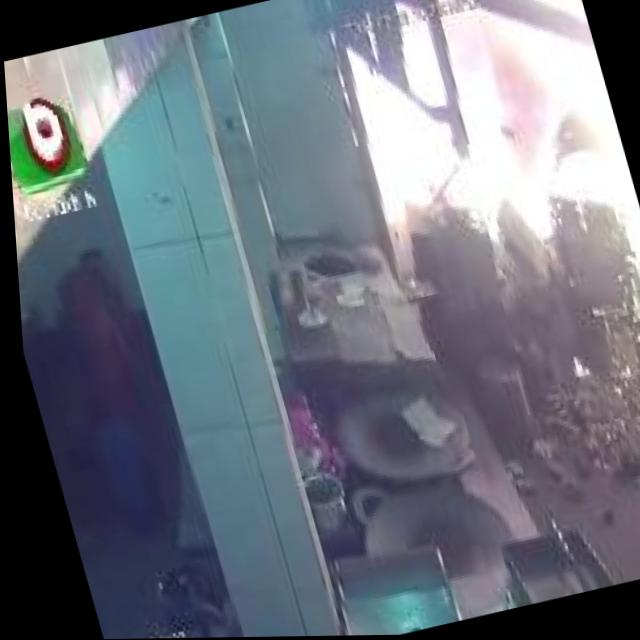fire: (343, 0, 640, 295), (454, 0, 640, 356)
